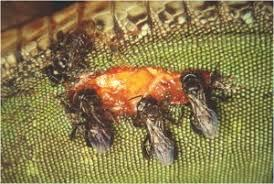Meliponula: (182, 63, 228, 143), (36, 26, 96, 82), (70, 87, 117, 158), (135, 83, 172, 164)
